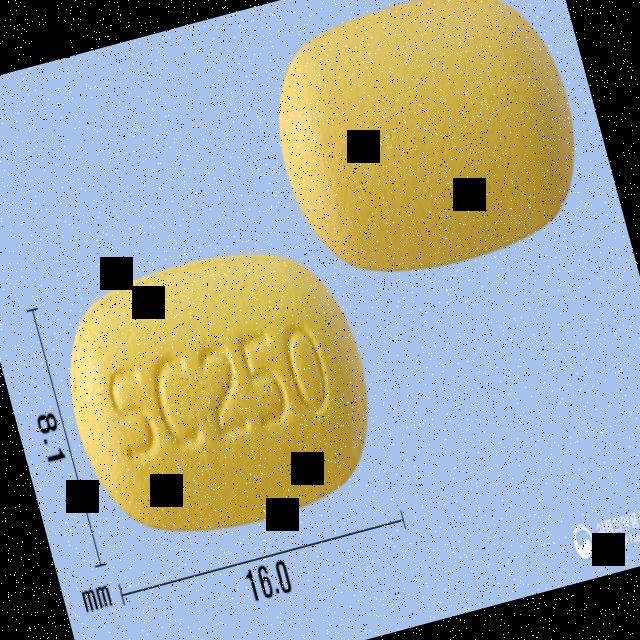Ceclacin: (40, 217, 400, 568)
